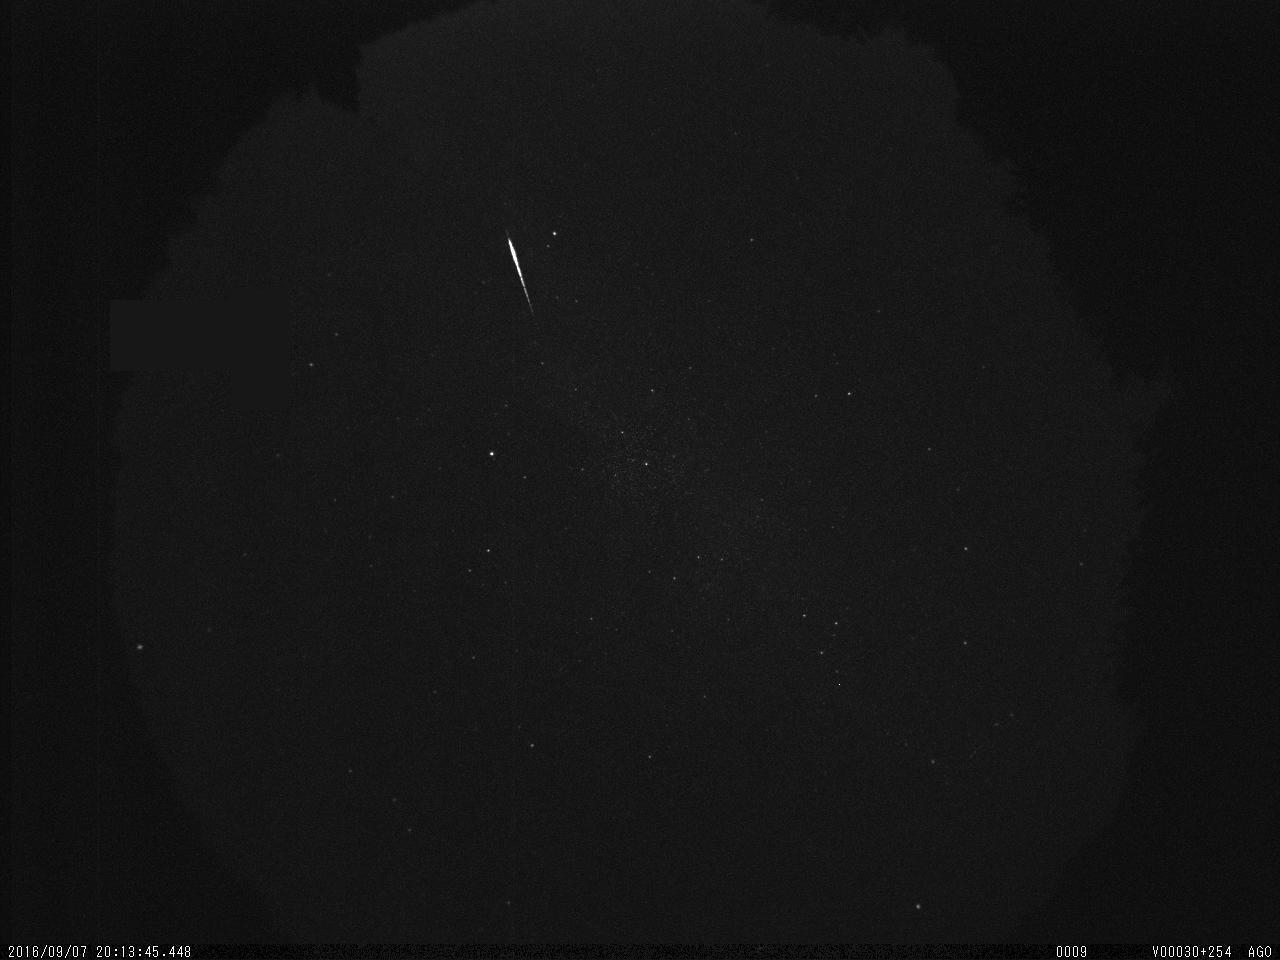Meteor: (503, 230, 535, 317)
